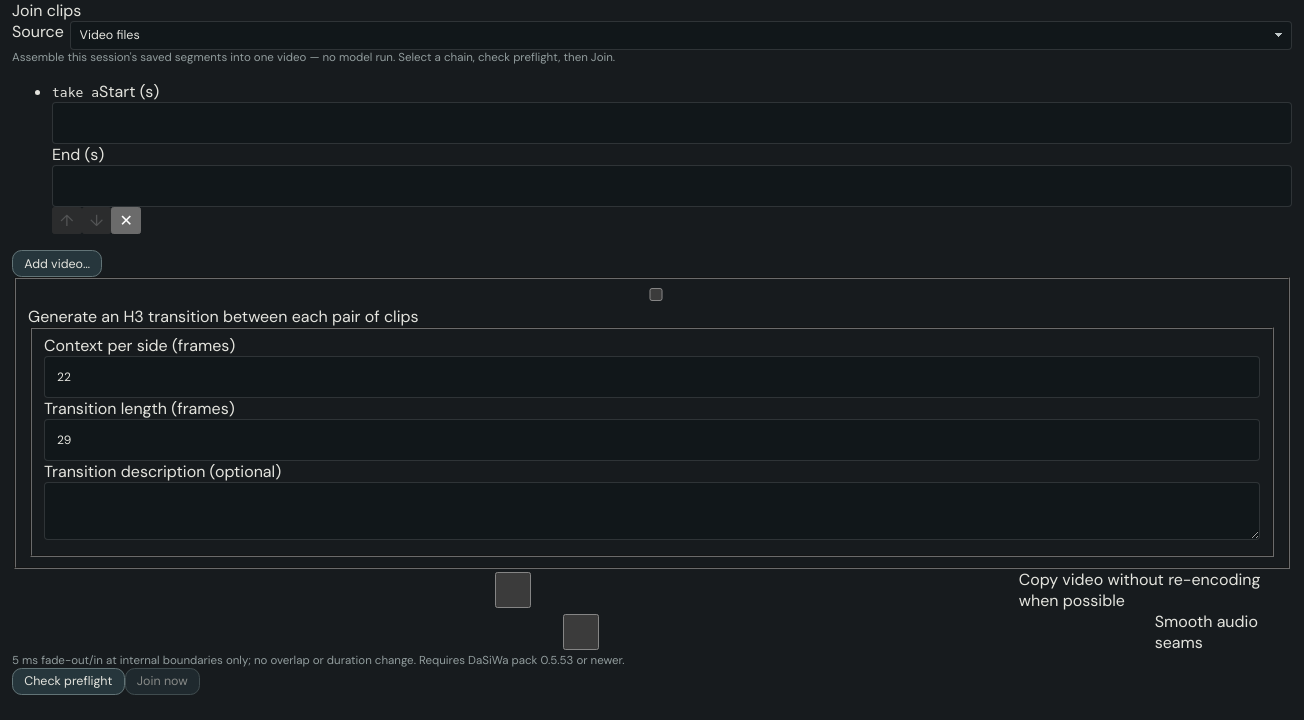
it: second cut failed stops future submissions and retains first bridge
The image size is (1304, 720).
Earlier steps of the test are not shown.
Click the button "Add video…".
click(57, 264)  # box top-left (12, 250), bottom-right (102, 277)
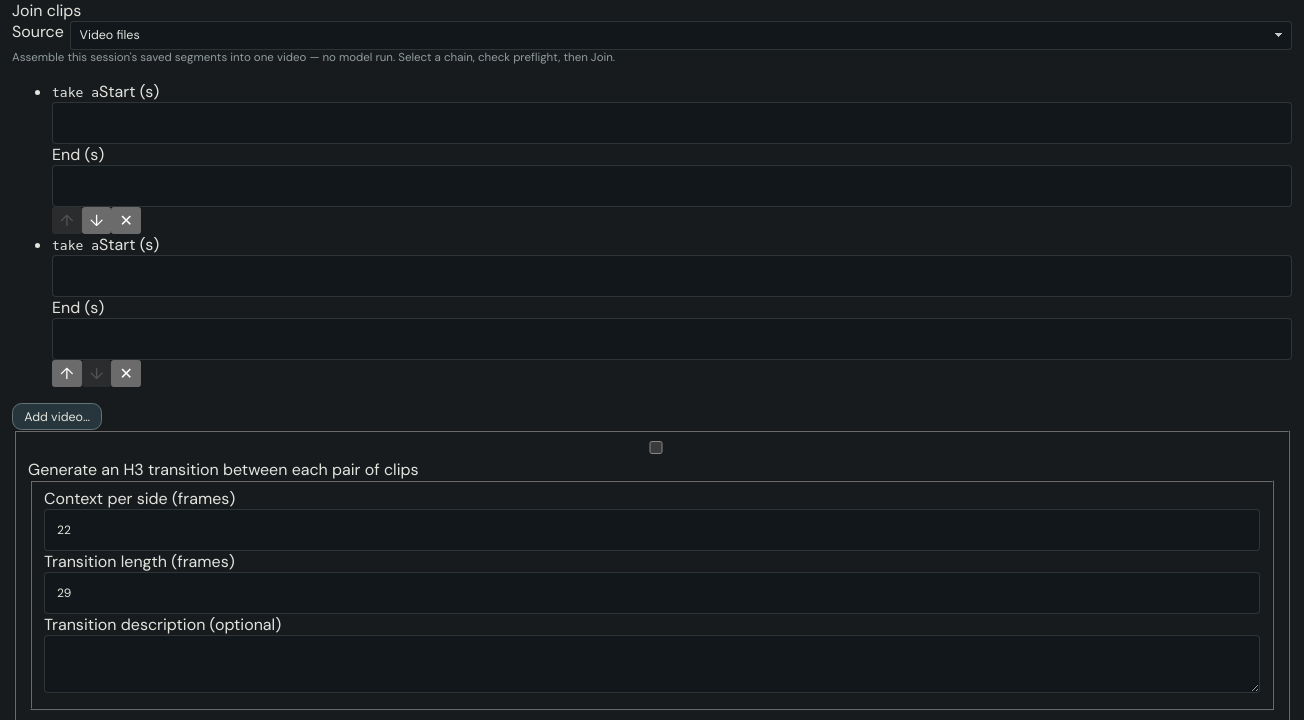
Click the button "Add video…".
click(57, 417)  # box top-left (12, 403), bottom-right (102, 430)
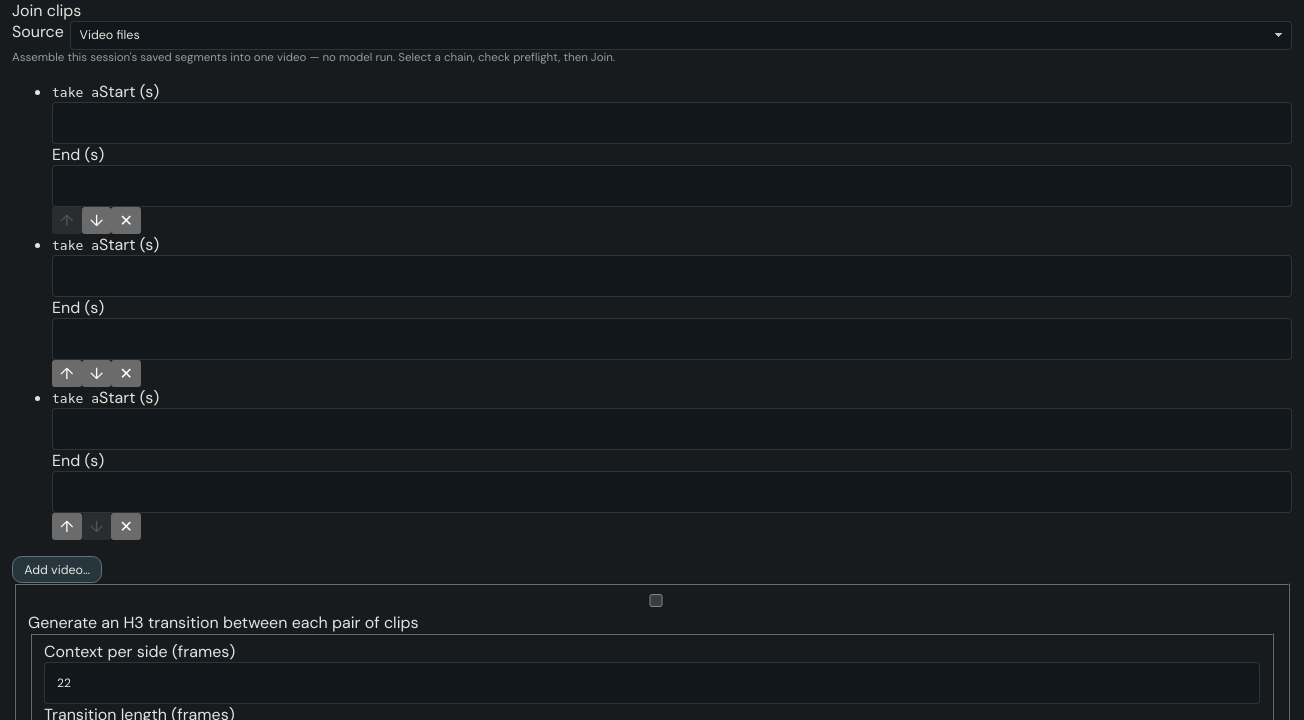
Click the button "Add video…".
click(57, 570)  # box top-left (12, 556), bottom-right (102, 583)
(page scrolled)
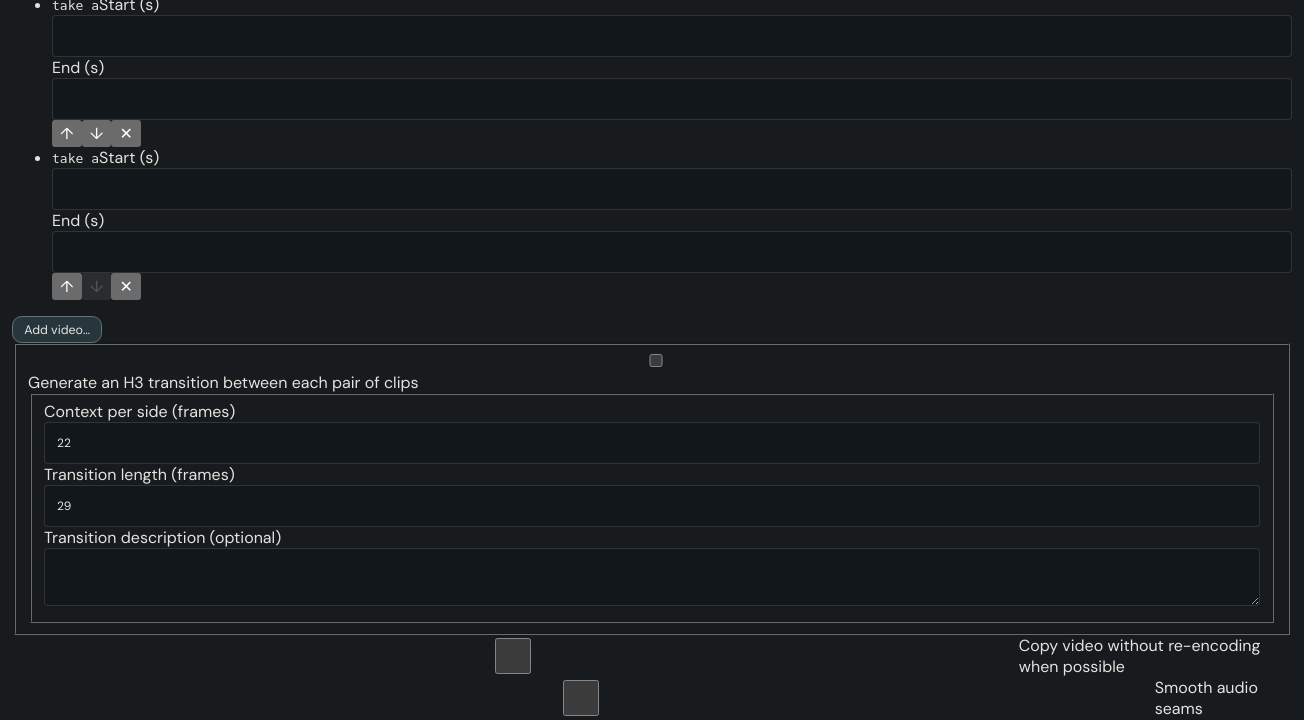
Click the checkbox labelled "Generate an H3 transition between each pair of clips".
click(656, 360)  # box top-left (32, 354), bottom-right (1280, 367)
(page scrolled)
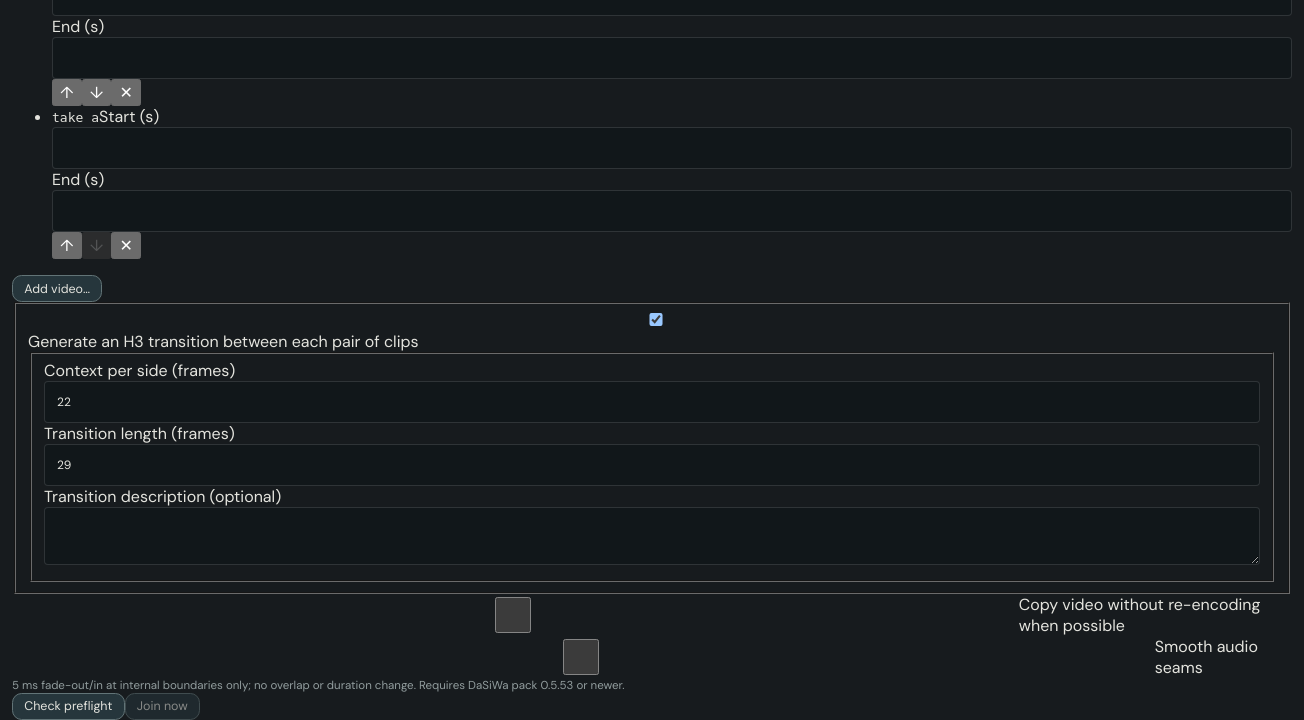
Click the button "Check preflight".
click(68, 706)  # box top-left (12, 693), bottom-right (125, 719)
(page scrolled)
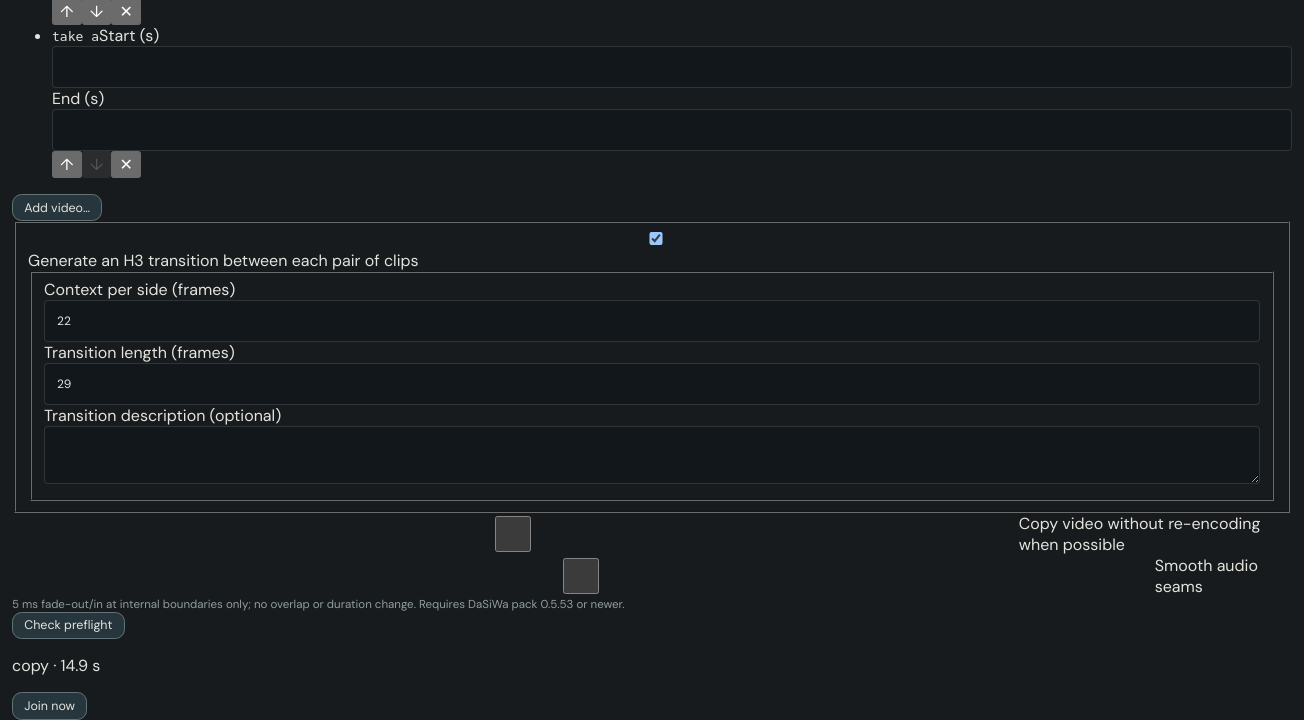
Click the button "Join now".
click(50, 706)  # box top-left (12, 692), bottom-right (87, 719)
(page scrolled)
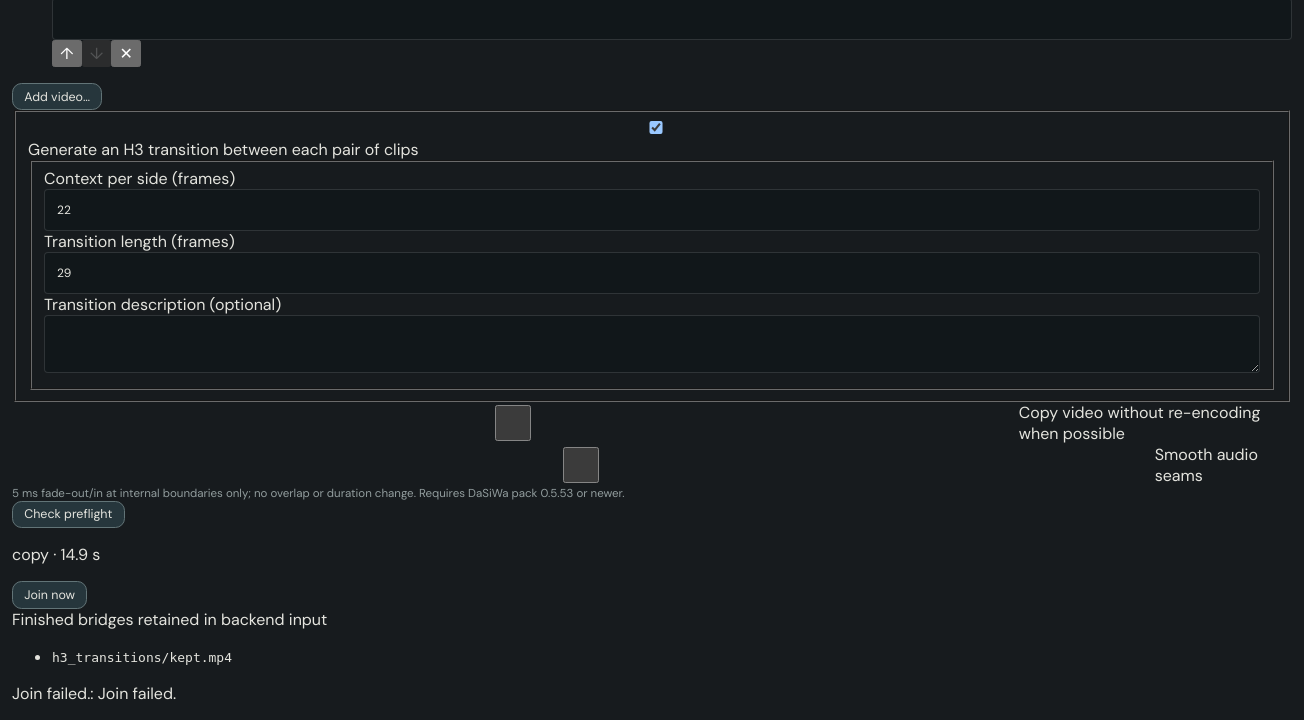
Expected: the text "h3_transitions/kept.mp4" is shown, top-left (52, 650), bottom-right (232, 665)
Expected: the message "Join failed.: Join failed." is shown, top-left (12, 683), bottom-right (176, 704)
